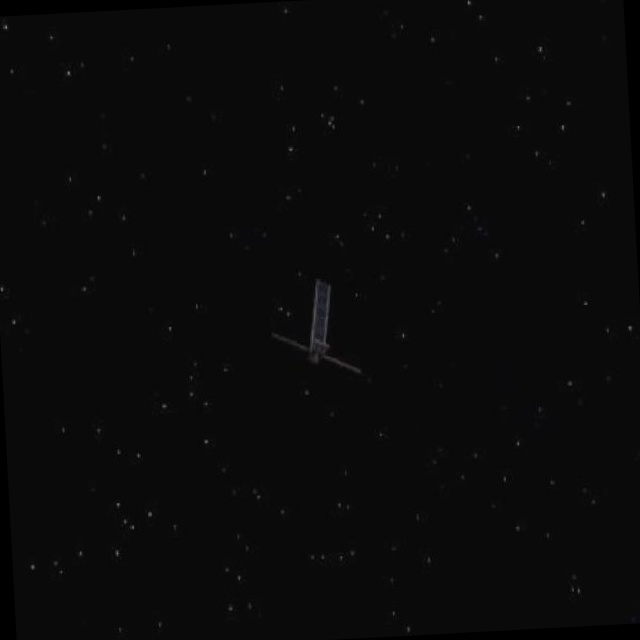satellite: (261, 274, 368, 387)
